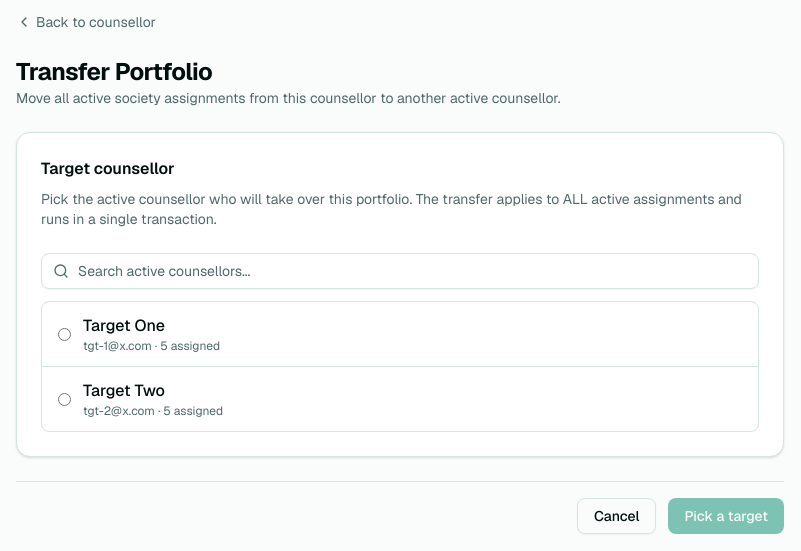
Test: TransferPortfolioPage › enables Transfer button after picking a target
Expected: the text "Target One" is shown, [83,315,165,336]
What coordinates should you click on to do the following:
click the radio button labelled "Target One tgt-1@x.com · 5 assigned"
I would click on:
 (64, 334)
Its box is [58,328,71,340].
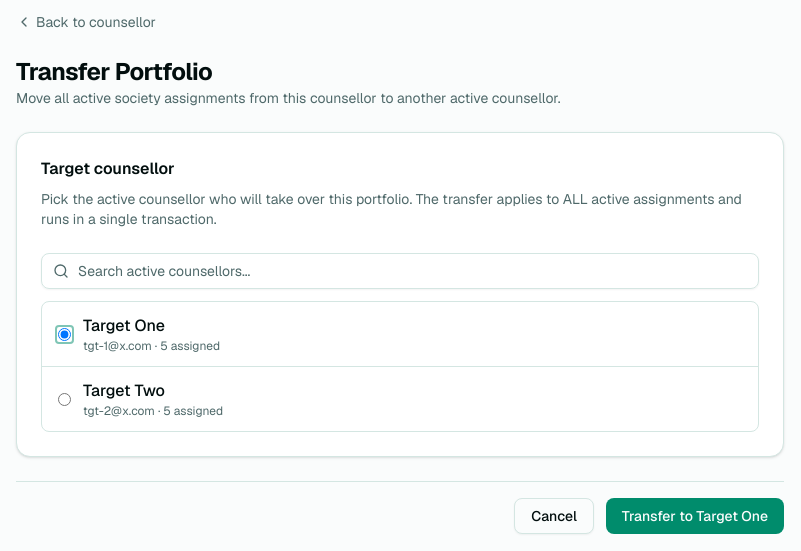
Expected: the button "Transfer to Target One" is enabled, [606,498,784,534]
